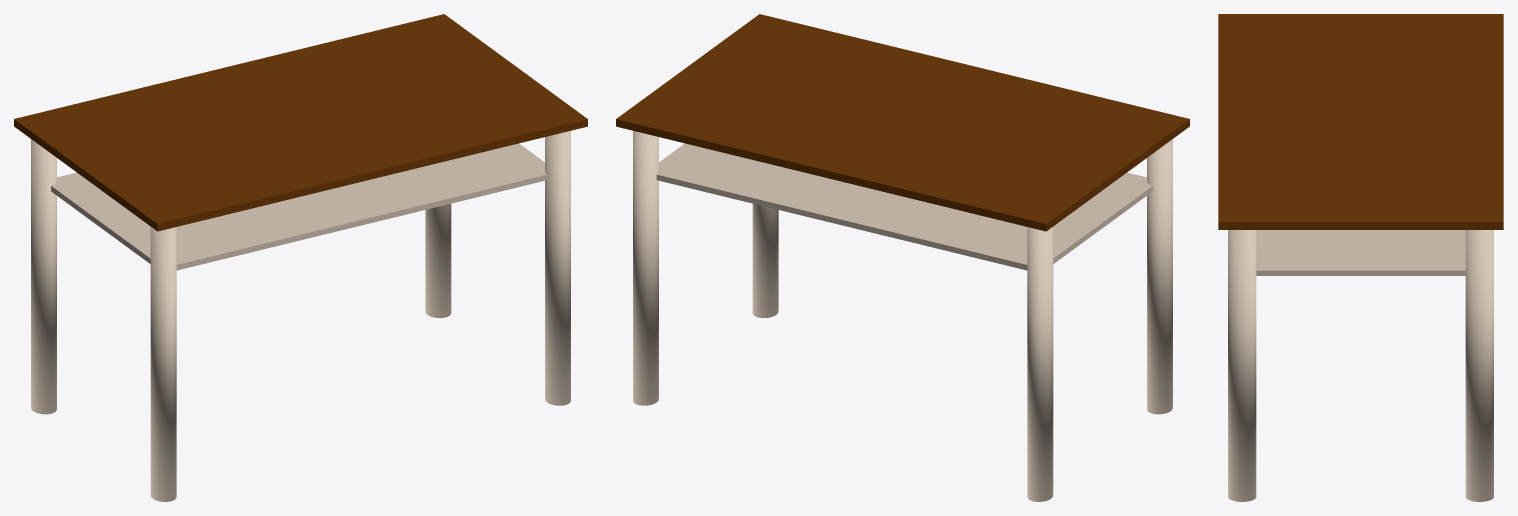
File: MESA PASILLO.fbx
3 views of the same model, side by side, from view 1: azimuth 30°, elevation 25°; view 2: azimuth 150°, elevation 25°; view 3: azimuth 270°, elevation 25° (orthographic).
Parts seen in each view (by area): view 1: Mesa_Tapa, Mesa_Estante, Mesa_Pata, Mesa_Pata.002, Mesa_Pata.001, Mesa_Pata.003; view 2: Mesa_Tapa, Mesa_Estante, Mesa_Pata.001, Mesa_Pata.003, Mesa_Pata, Mesa_Pata.002; view 3: Mesa_Tapa, Mesa_Estante, Mesa_Pata.002, Mesa_Pata.003.
Boxes of the visible parts, x1,y1,x2,y2 form: Mesa_Tapa: (14, 14, 587, 231); Mesa_Estante: (51, 143, 547, 270); Mesa_Pata: (150, 227, 176, 501); Mesa_Pata.002: (545, 131, 570, 405); Mesa_Pata.001: (31, 139, 56, 414); Mesa_Pata.003: (425, 203, 451, 318); Mesa_Tapa: (616, 14, 1189, 231); Mesa_Estante: (656, 143, 1152, 270); Mesa_Pata.001: (1027, 227, 1053, 501); Mesa_Pata.003: (633, 131, 658, 405); Mesa_Pata: (1147, 139, 1172, 414); Mesa_Pata.002: (752, 203, 778, 318); Mesa_Tapa: (1218, 14, 1503, 229); Mesa_Estante: (1256, 230, 1465, 275); Mesa_Pata.002: (1228, 230, 1256, 501); Mesa_Pata.003: (1465, 230, 1493, 501).
Bounding box in the file's own units: 841 × 533 × 486.
